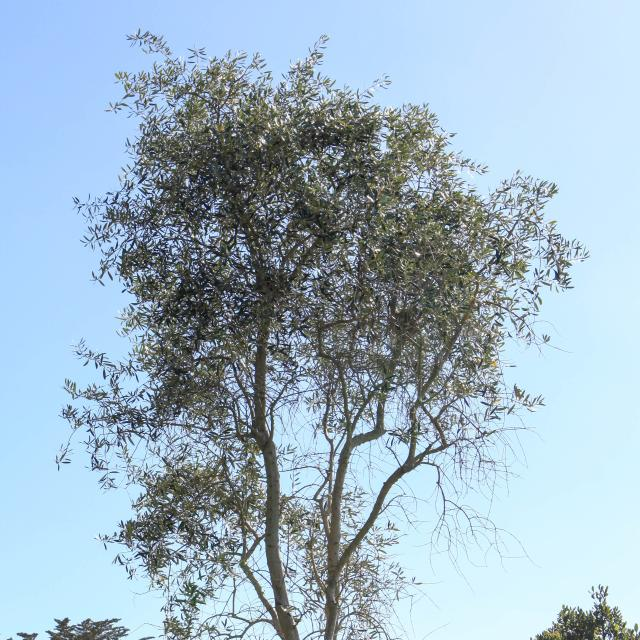Olea nabali: (96, 45, 547, 619)
